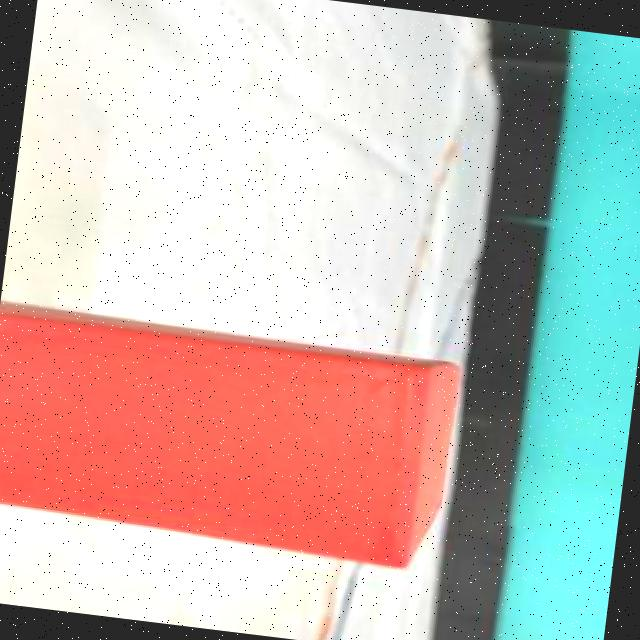redbox: (0, 309, 458, 554)
